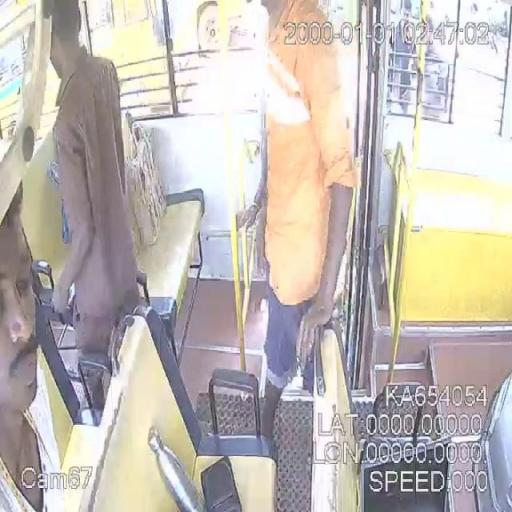persona: (234, 0, 358, 447), (46, 1, 142, 415), (1, 197, 70, 512)
